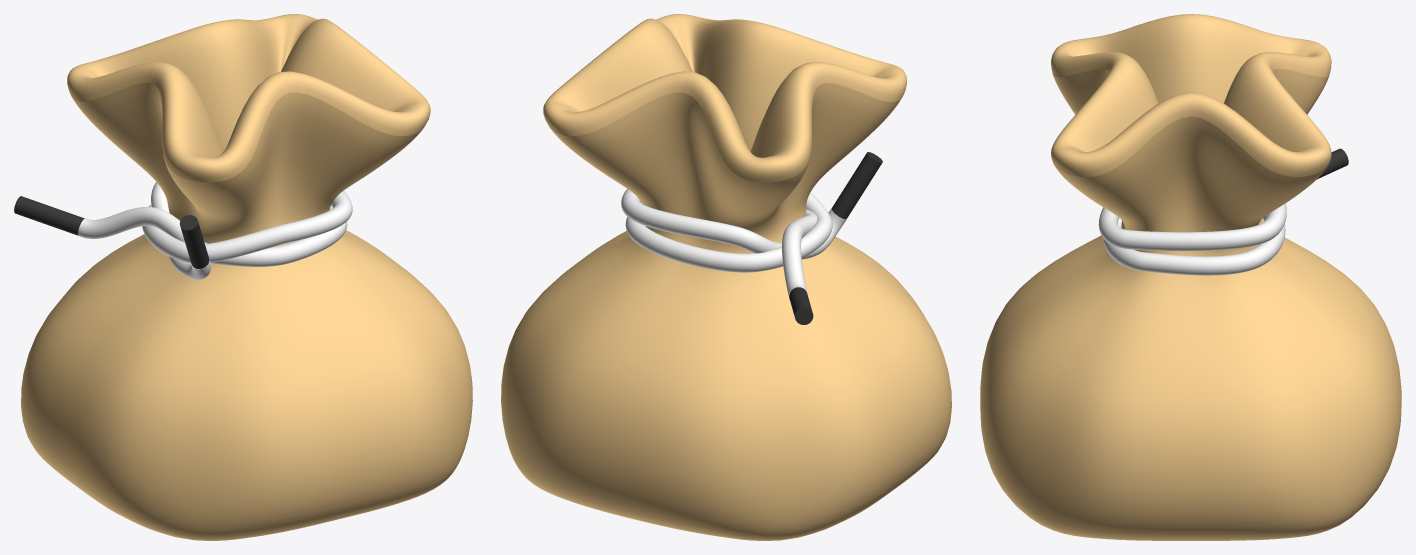
The model's file is Bag.fbx.
3 views of the same model, side by side, from view 1: azimuth 30°, elevation 25°; view 2: azimuth 150°, elevation 25°; view 3: azimuth 270°, elevation 25° (orthographic).
Visible parts, largest first — view 1: Cube_2, Sweep_1, Cylinder, Cylinder_1; view 2: Cube_2, Sweep_1, Cylinder_1, Cylinder; view 3: Cube_2, Sweep_1.
Boxes of the visible parts, x1,y1,x2,y2 form: Cube_2: (21,14,472,540); Sweep_1: (78,182,352,279); Cylinder: (14,196,84,235); Cylinder_1: (179,215,209,268); Cube_2: (501,14,951,540); Sweep_1: (621,189,847,299); Cylinder_1: (831,152,882,219); Cylinder: (789,287,813,324); Cube_2: (980,14,1401,540); Sweep_1: (1098,203,1286,275).
Bounding box in the file's own units: 18.09 × 19.47 × 17.68.
